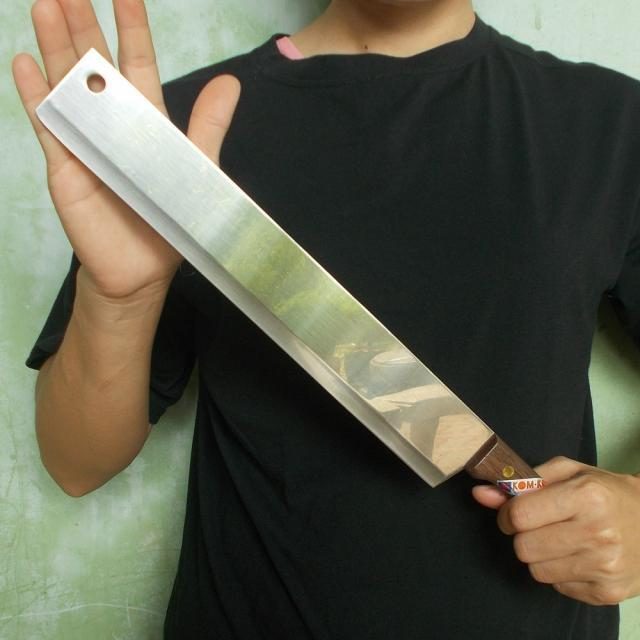eto: (23, 39, 639, 606)
